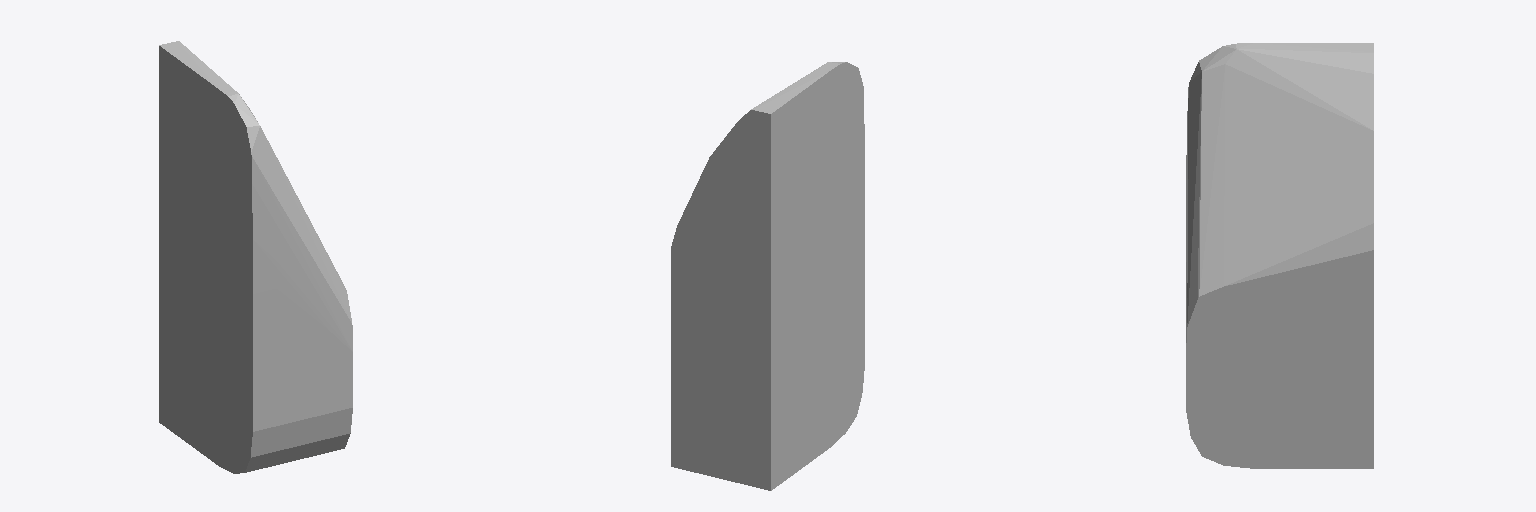
The model's file is block_2_collision_4.obj.
The picture shows the model from 3 angles: view 1: azimuth 30°, elevation 25°; view 2: azimuth 150°, elevation 25°; view 3: azimuth 270°, elevation 25°; orthographic projection.
Bounding box in the file's own units: 0.006 × 0.0217 × 0.0098.